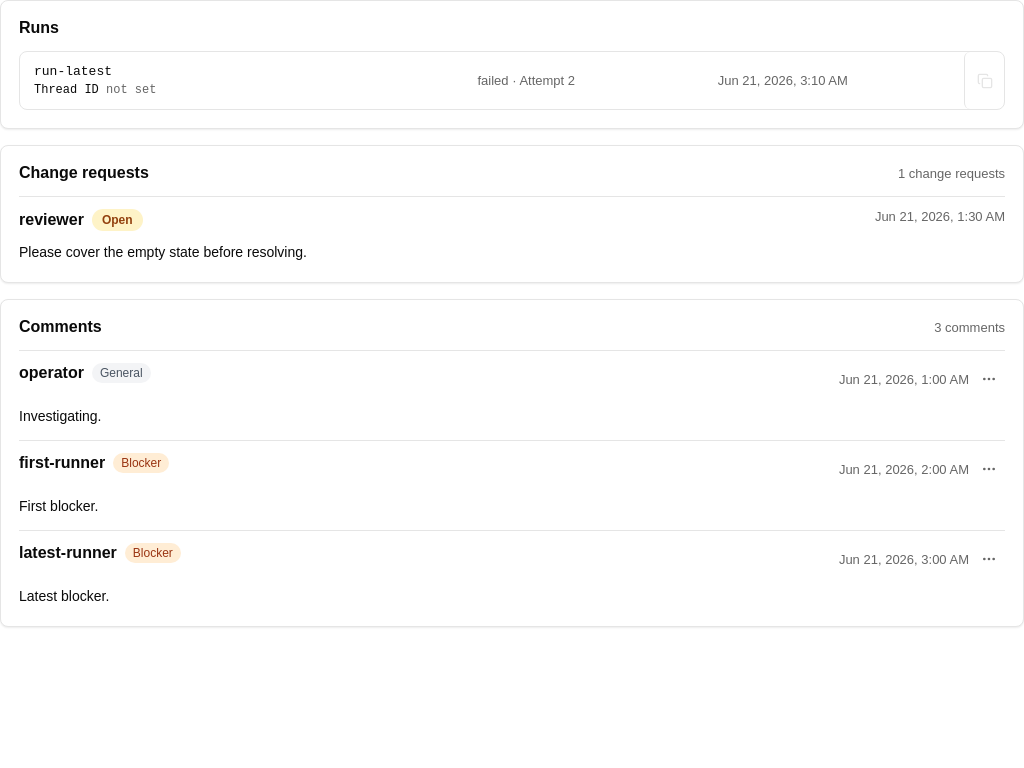
IssueDetailPage › continues a blocked issue from only its latest blocker comment
Click the button named "Comment actions for operator". click: click(989, 379)
box: 973,363 -> 1005,395
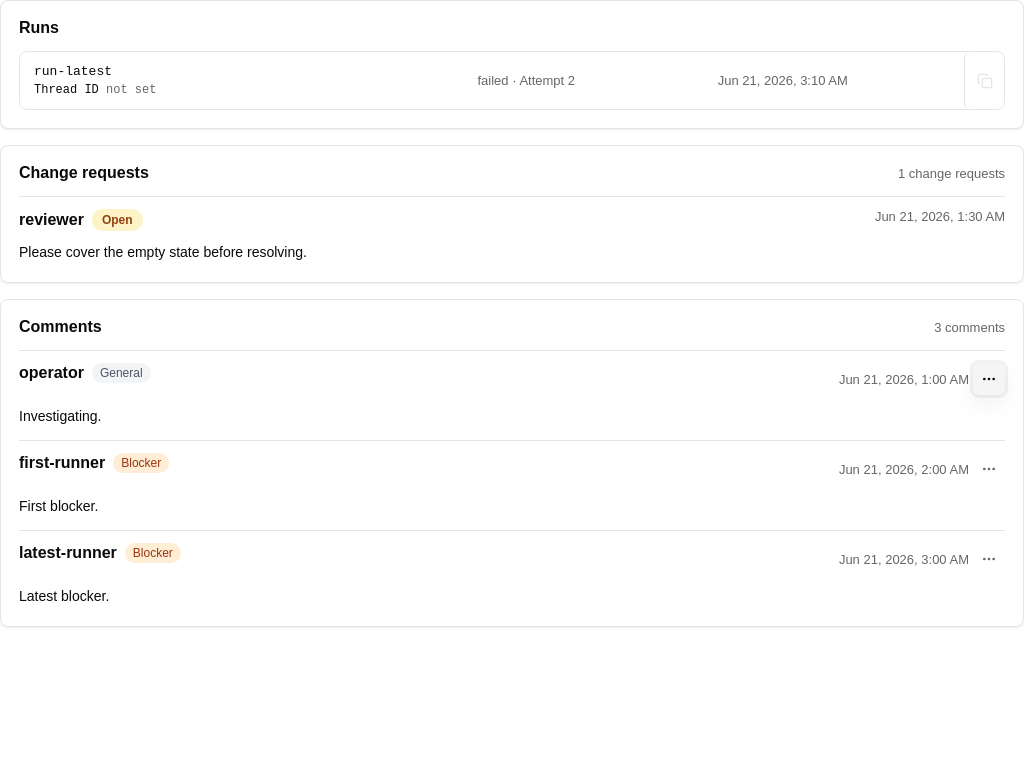
Click the button named "Comment actions for first-runner". click: click(989, 469)
box: 973,453 -> 1005,485
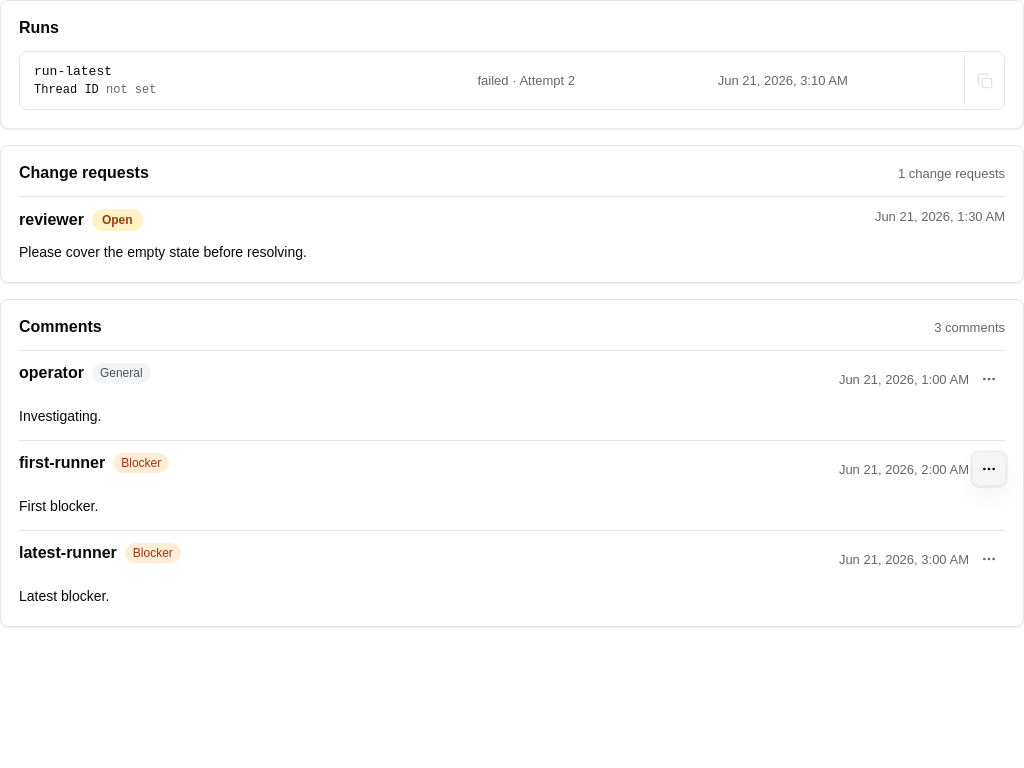
Click the button named "Comment actions for latest-runner". click: click(989, 559)
box: 973,543 -> 1005,575
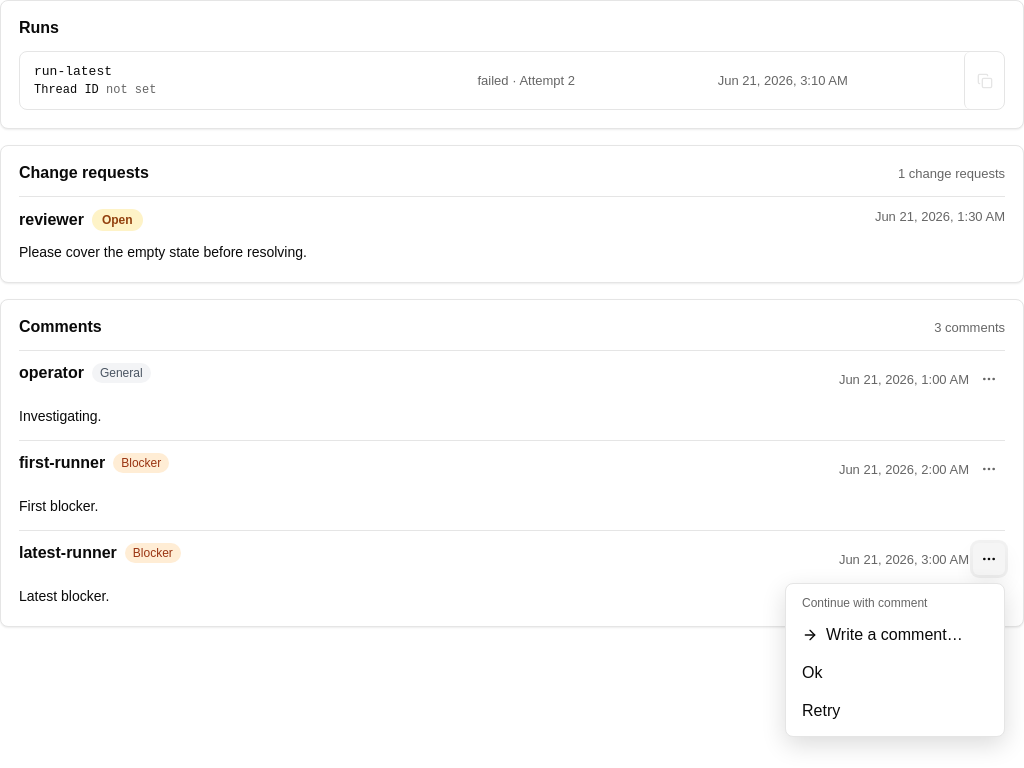
Click the menu item "Write a comment…". click: click(895, 635)
box: 794,618 -> 996,652
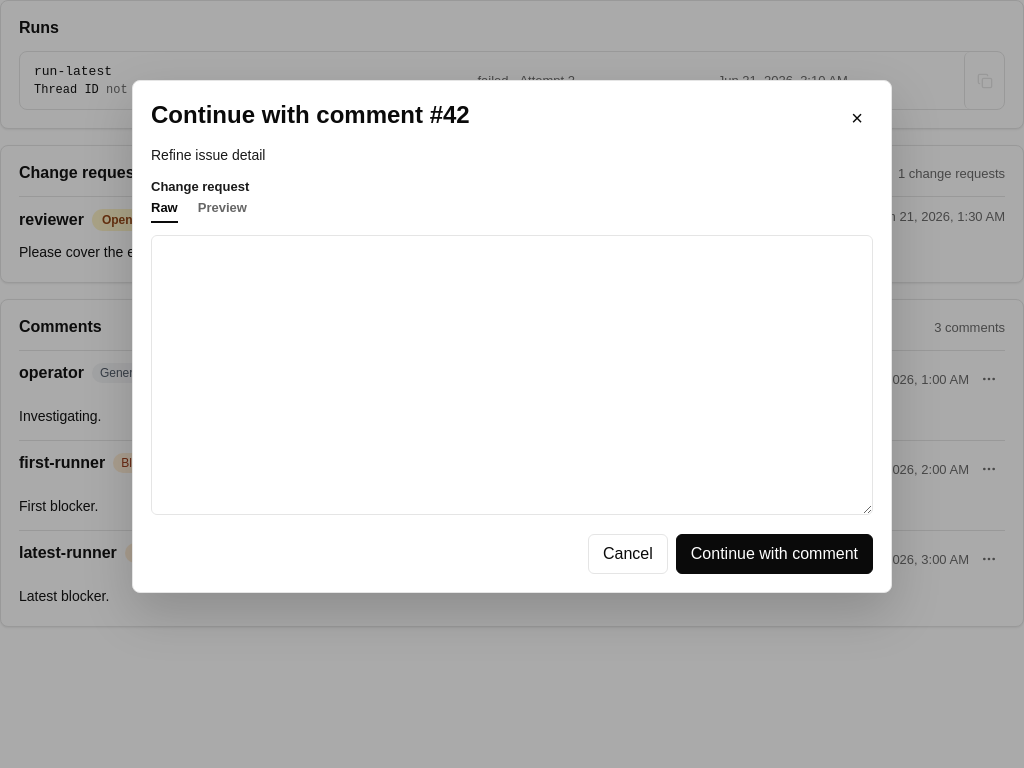
Check: the text box named "Change request" is empty
Type "Unblocked after updating credentials" into the text box named "Change request". click: (512, 375)
box: 151,235 -> 873,515
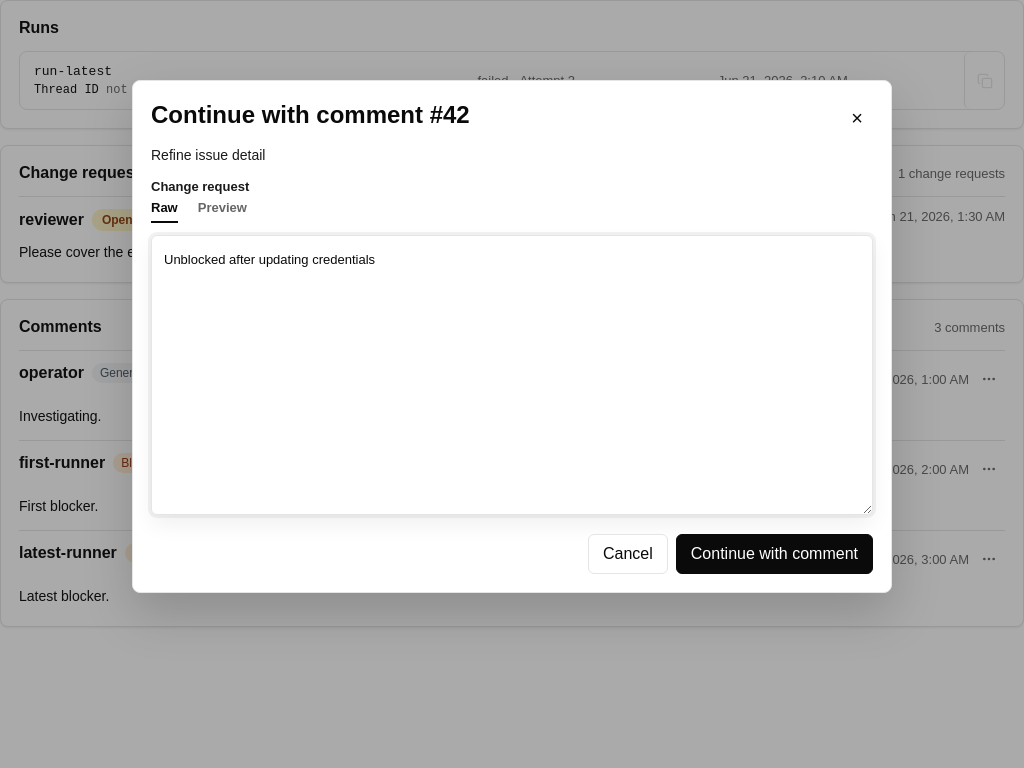
Click the button "Continue with comment". click: click(774, 554)
box: 676,534 -> 873,574
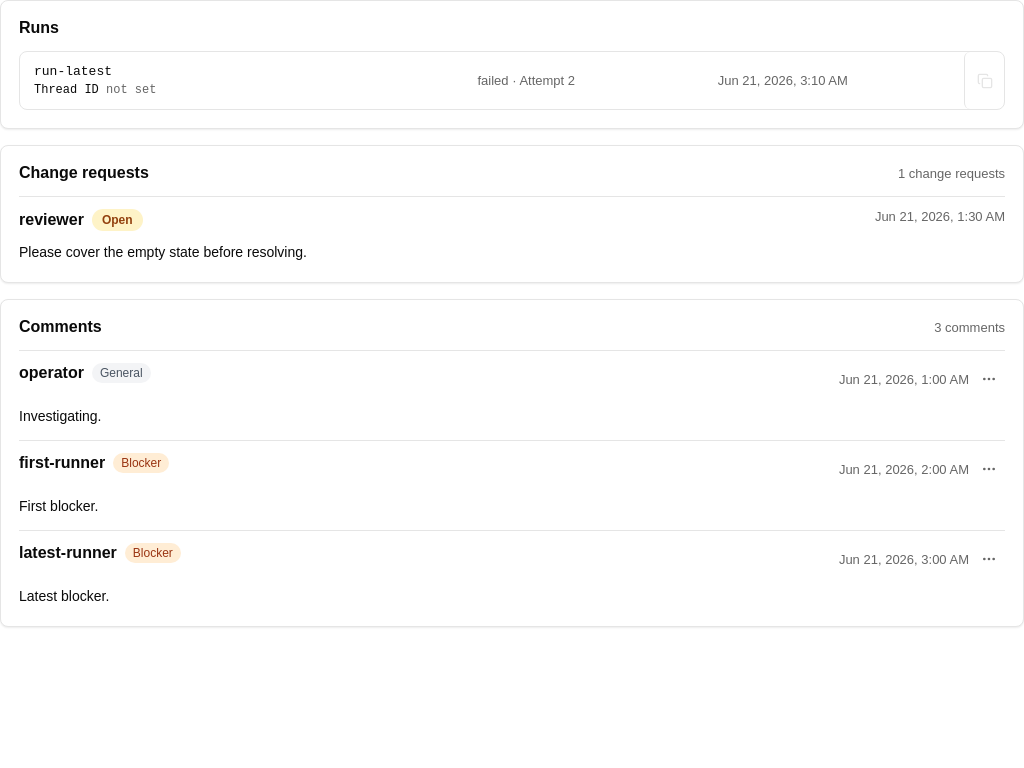
Check: the heading "Continue with comment #42" is gone
